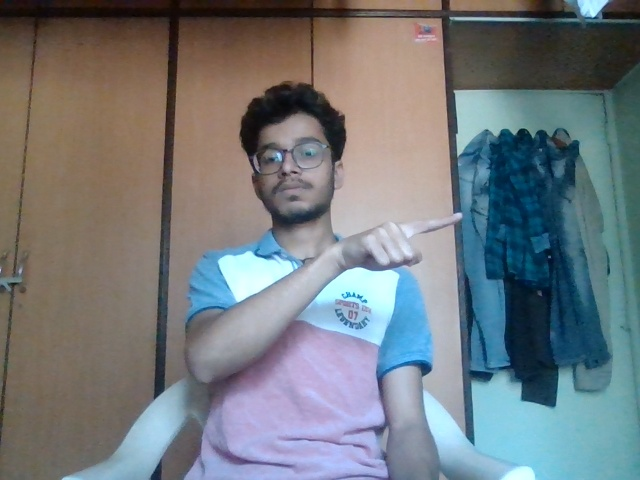you: (339, 209, 476, 288)
